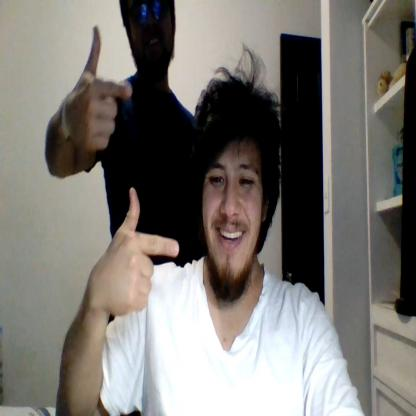G: (102, 188, 180, 315), (68, 26, 132, 150)
